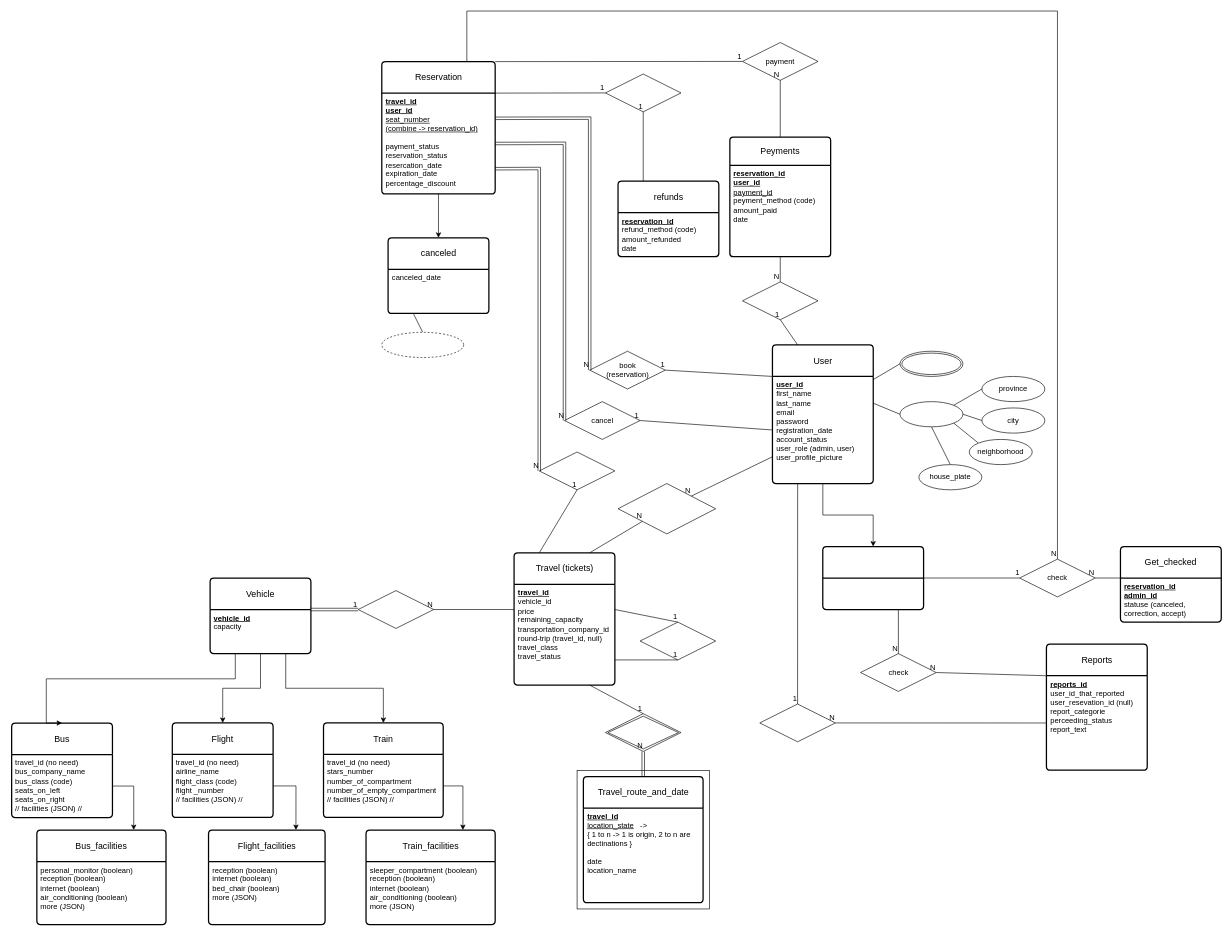
The diagram is 1232 pixels wide and 936 high, and some of its shapes have lost their labels. Each missing label, with the centre of its shape:
address: (x=931, y=414)
Admin: (x=873, y=578)
checks for: (x=666, y=508)
for: (x=577, y=470)
paying: (x=780, y=300)
phone_number: (x=931, y=363)
refund: (x=643, y=92)
refund_percentage: (x=422, y=345)
report a problem: (x=797, y=722)
ride: (x=396, y=609)
round-trip: (x=677, y=640)
route: (x=643, y=732)
